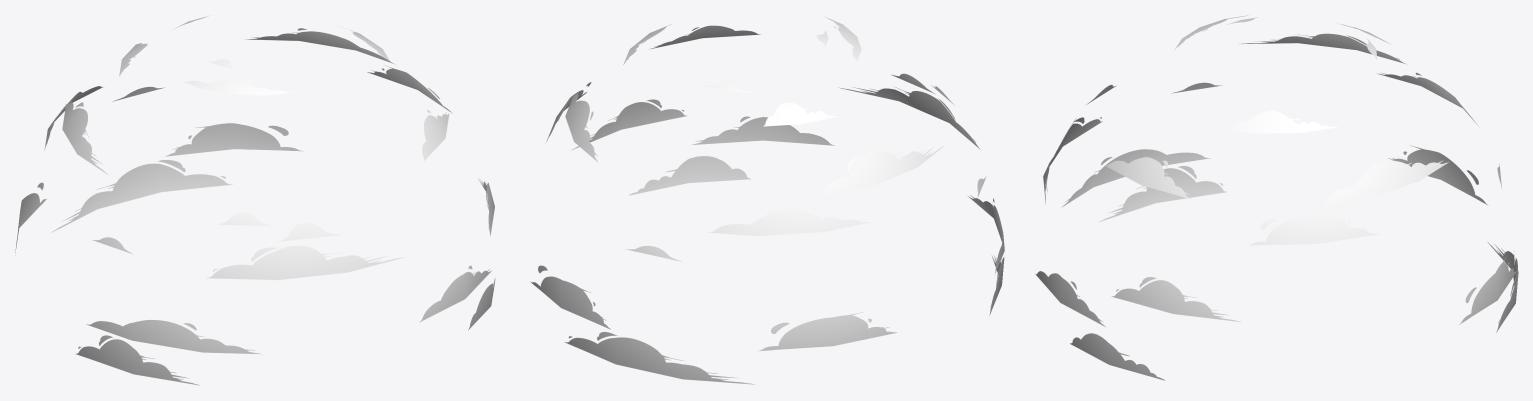
Rendered from SM_Cloud.glb.
The picture shows the model from 3 angles, left to right: view 1: azimuth 30°, elevation 25°; view 2: azimuth 150°, elevation 25°; view 3: azimuth 270°, elevation 25°; orthographic projection.
Parts seen in each view (by area): view 1: SM_Cloud_Arena; view 2: SM_Cloud_Arena; view 3: SM_Cloud_Arena.
Boxes of the visible parts, x1=… form: SM_Cloud_Arena: x1=15, y1=16, x2=495, y2=385; SM_Cloud_Arena: x1=530, y1=16, x2=1004, y2=384; SM_Cloud_Arena: x1=1035, y1=15, x2=1518, y2=380.
Size of the model in its own units: 291 by 169 by 291.
Materials: 1 (1 with a texture image).
